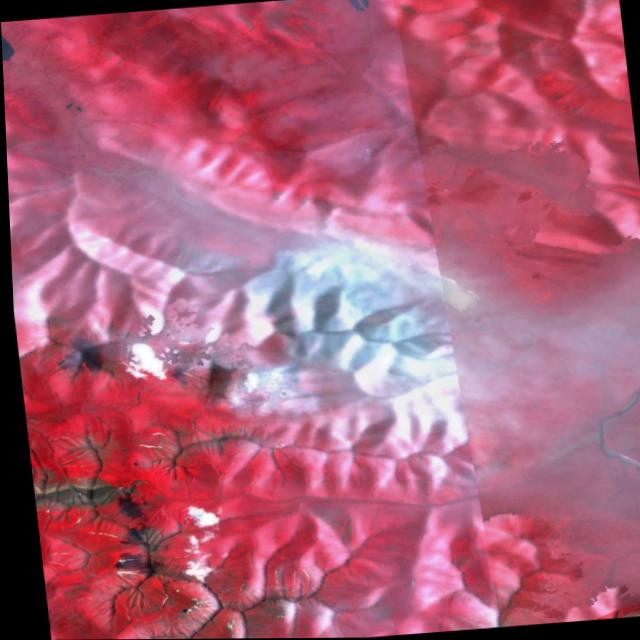fire: (205, 230, 472, 405)
